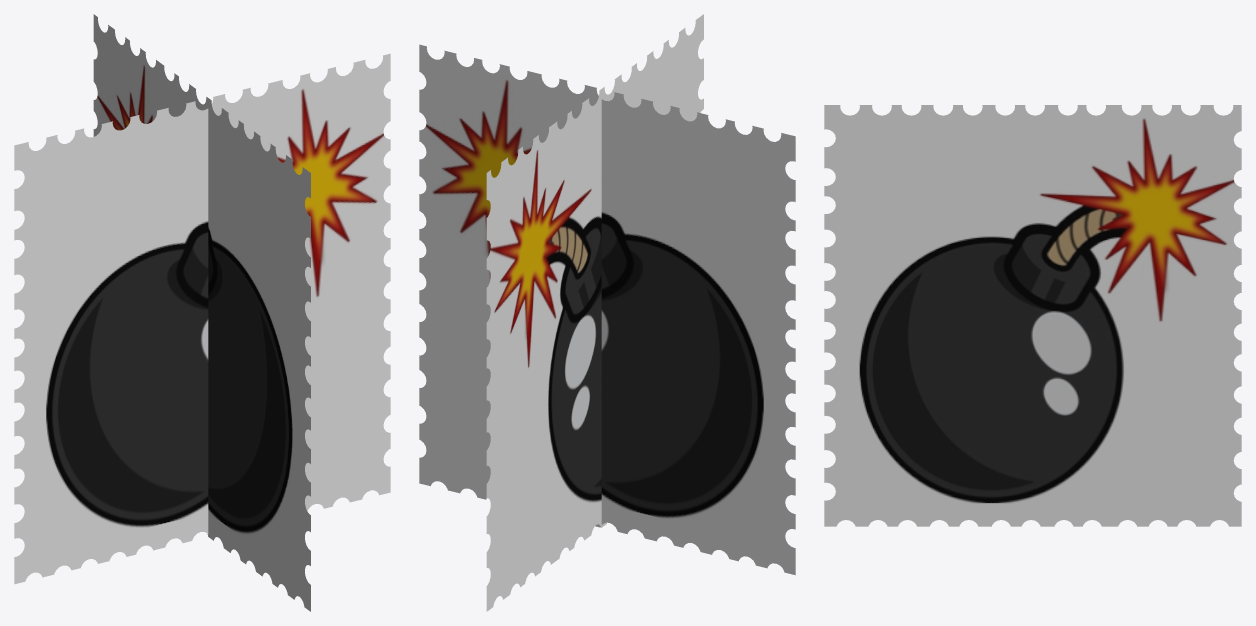
Rendered from Stamp_Only.dae.
3 renders of one model, left to right at view 1: azimuth 30°, elevation 25°; view 2: azimuth 150°, elevation 25°; view 3: azimuth 270°, elevation 25°, orthographic. The views are drawn at different scales.
Visible parts, largest first — view 1: stamp2 (×2); view 2: stamp2 (×2); view 3: stamp2.
Boxes of the visible parts, left/top/right/bottom form: stamp2 (×2): left=14, top=14, right=390, bottom=611; stamp2 (×2): left=419, top=14, right=795, bottom=611; stamp2: left=824, top=105, right=1241, bottom=526.
Bounding box in the file's own units: 23.47 × 26.16 × 23.47.
1 material, 1 textured.
